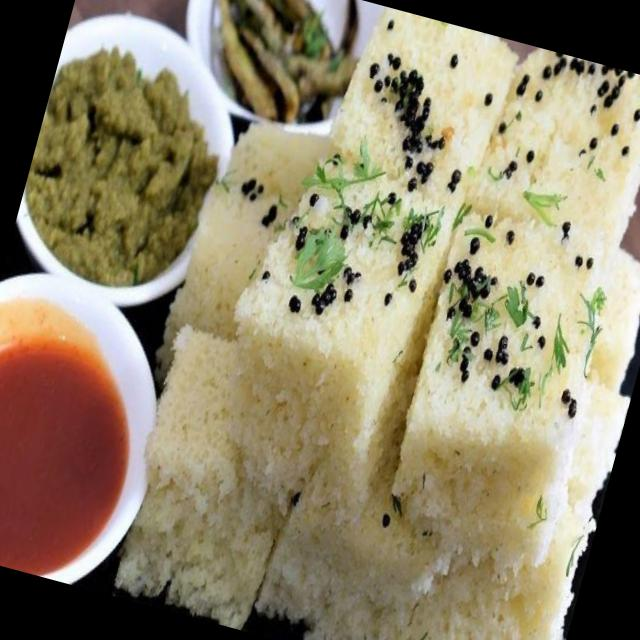dhokla: (75, 0, 640, 640)
